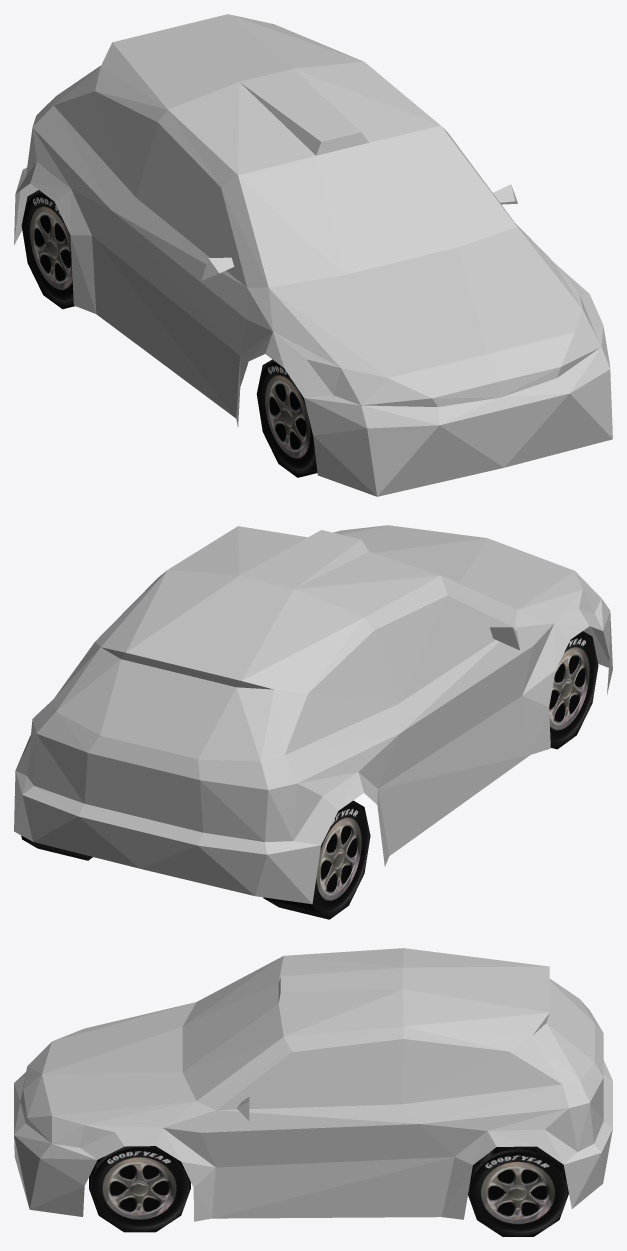
Rendered from Focus.dae.
3 views of the same model, one above another, from view 1: azimuth 30°, elevation 25°; view 2: azimuth 150°, elevation 25°; view 3: azimuth 270°, elevation 25° (orthographic). The views are drawn at different scales.
Parts seen in each view (by area): view 1: Body, Wheel_FR, Wheel_RR; view 2: Body, Wheel_RR, Wheel_FR; view 3: Body, Wheel_RL, Wheel_FL.
Part boxes in pixels (<box>): Body: <box>14,14,612,496</box>; Wheel_FR: <box>256,359,317,477</box>; Wheel_RR: <box>21,190,75,309</box>; Body: <box>14,525,612,904</box>; Wheel_RR: <box>263,800,370,919</box>; Wheel_FR: <box>549,631,598,749</box>; Body: <box>14,948,612,1221</box>; Wheel_RL: <box>468,1146,568,1236</box>; Wheel_FL: <box>89,1146,190,1232</box>.
Size of the model in its own units: 5.03 by 3.7 by 10.08.
